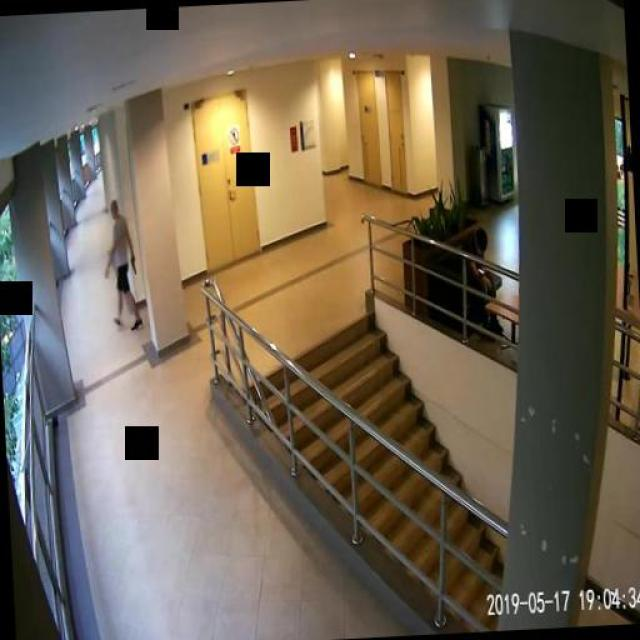gun: (128, 254, 136, 274)
